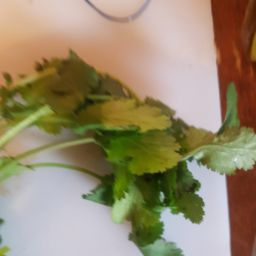Cilantro: (3, 67, 256, 220), (3, 55, 171, 238), (179, 24, 256, 209)
